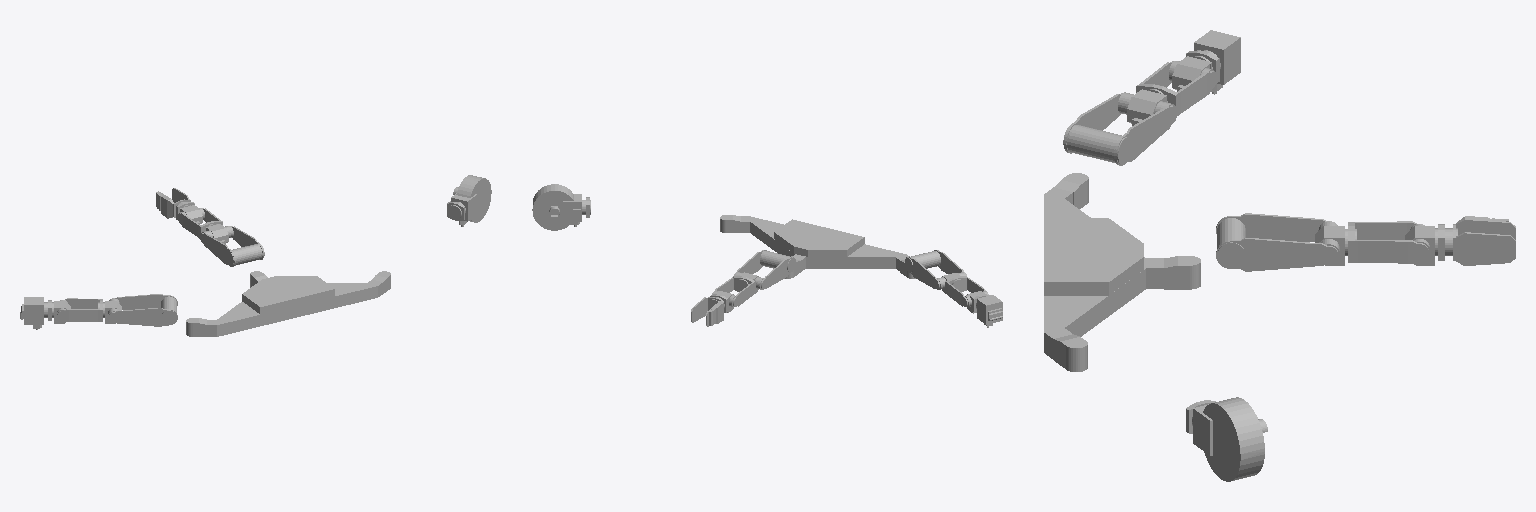
--- What the picture shows (computed from the rendered views, not written in the file) ---
The picture shows the robot from 3 angles, left to right: view 1: azimuth 30°, elevation 25°; view 2: azimuth 150°, elevation 25°; view 3: azimuth 270°, elevation 25°; orthographic projection.
Robot: TriATHLETE — 31 links, 30 joints (21 revolute, 3 continuous, 6 prismatic); root link Body; default pose: all joints at 0.
Visible links, largest first — view 1: Body, Thigh3, Thigh2, Shin3, Wheel1, Foot3, Foot1, Foot2, Shin2; view 2: Body, Wheel1, Thigh3, Thigh2, Foot2, Foot3, Shin2, Shin3, Foot1; view 3: Body, Thigh2, Thigh3, Wheel1, Foot2, Shin2, Foot3, Shin3, Knee3, Foot1, Ankle3, Knee2 (+1 smaller).
Link boxes in pixels (x1=…): Body: x1=186, y1=271, x2=390, y2=336; Thigh3: x1=109, y1=294, x2=177, y2=326; Thigh2: x1=200, y1=226, x2=264, y2=266; Shin3: x1=57, y1=298, x2=104, y2=321; Wheel1: x1=456, y1=175, x2=491, y2=222; Foot3: x1=20, y1=297, x2=53, y2=329; Foot1: x1=447, y1=193, x2=476, y2=226; Foot2: x1=156, y1=188, x2=194, y2=219; Shin2: x1=177, y1=208, x2=222, y2=238; Body: x1=720, y1=215, x2=915, y2=278; Wheel1: x1=532, y1=184, x2=573, y2=230; Thigh3: x1=905, y1=250, x2=966, y2=289; Thigh2: x1=733, y1=250, x2=795, y2=289; Foot2: x1=691, y1=294, x2=727, y2=326; Foot3: x1=973, y1=294, x2=1002, y2=327; Shin2: x1=712, y1=276, x2=755, y2=306; Shin3: x1=945, y1=276, x2=988, y2=306; Foot1: x1=559, y1=194, x2=590, y2=226; Body: x1=1044, y1=173, x2=1200, y2=371; Thigh2: x1=1216, y1=213, x2=1337, y2=271; Thigh3: x1=1063, y1=93, x2=1177, y2=165; Wheel1: x1=1203, y1=397, x2=1264, y2=481; Foot2: x1=1435, y1=216, x2=1515, y2=265; Shin2: x1=1345, y1=221, x2=1428, y2=263; Foot3: x1=1186, y1=30, x2=1240, y2=94; Shin3: x1=1136, y1=61, x2=1216, y2=115; Knee3: x1=1118, y1=89, x2=1174, y2=125; Foot1: x1=1186, y1=400, x2=1215, y2=455; Ankle3: x1=1169, y1=56, x2=1213, y2=91; Knee2: x1=1315, y1=221, x2=1344, y2=265.
Bounding box of the posed robot: 8.62 × 4.16 × 0.7672 m (x, y, z).
Meshes: 31 distinct files referenced, 17 mesh visuals loaded (17 binary STL); not drawn: 14 (reference not matched to a file when rendering).

robot.urdf — TriATHLETE:
<robot
  name="TriATHLETE">
  <link
    name="Body">
    <inertial>
      <origin
        xyz="0.000327609439793762 0.391383104075818 0.134839592784018"
        rpy="0 0 0" />
      <mass
        value="69.4650650198642" />
      <inertia
        ixx="9.54721652216011"
        ixy="-0.00600414850178364"
        ixz="-0.000962733954504053"
        iyy="61.2449611929671"
        iyz="-0.0261330879953629"
        izz="69.2158836561605" />
    </inertial>
    <visual>
      <origin
        xyz="0 0 0"
        rpy="0 0 0" />
      <geometry>
        <mesh
          filename="package://TriATHLETE/meshes/Body.STL" />
      </geometry>
      <material
        name="">
        <color
          rgba="0.752941176470588 0.752941176470588 0.752941176470588 1" />
      </material>
    </visual>
    <collision>
      <origin
        xyz="0 0 0"
        rpy="0 0 0" />
      <geometry>
        <mesh
          filename="package://TriATHLETE/meshes/Body.STL" />
      </geometry>
    </collision>
  </link>
  <link
    name="Hip1">
    <inertial>
      <origin
        xyz="0.12059 0.04703 -0.043975"
        rpy="0 0 0" />
      <mass
        value="10.161" />
      <inertia
        ixx="0.69317"
        ixy="0.0073762"
        ixz="0.040711"
        iyy="0.34376"
        iyz="0.0014897"
        izz="0.9152" />
    </inertial>
    <visual>
      <origin
        xyz="0 0 0"
        rpy="0 0 0" />
      <geometry>
        <mesh
          filename="package://TriATHLETE/meshes/Hip1.STL" />
      </geometry>
      <material
        name="">
        <color
          rgba="0.75294 0.75294 0.75294 1" />
      </material>
    </visual>
    <collision>
      <origin
        xyz="0 0 0"
        rpy="0 0 0" />
      <geometry>
        <mesh
          filename="package://TriATHLETE/meshes/Hip1.STL" />
      </geometry>
    </collision>
  </link>
  <joint
    name="HY1"
    type="revolute">
    <origin
      xyz="1.7322 0.28008 0.41034"
      rpy="-3.8514E-19 2.9959E-16 0.5236" />
    <parent
      link="Body" />
    <child
      link="Hip1" />
    <axis
      xyz="0 0 1" />
    <limit
      effort="0"
      velocity="0" />
  </joint>
  <link
    name="Thigh1">
    <inertial>
      <origin
        xyz="0.370518721162457 1.25669714079457E-08 -0.00166214955811306"
        rpy="0 0 0" />
      <mass
        value="14.2380918660623" />
      <inertia
        ixx="1.00077706992144"
        ixy="7.04416315080612E-08"
        ixz="0.00876869540631989"
        iyy="2.02531859855813"
        iyz="-0.000247267811920179"
        izz="1.32519556980037" />
    </inertial>
    <visual>
      <origin
        xyz="0 0 0"
        rpy="0 0 0" />
      <geometry>
        <mesh
          filename="package://TriATHLETE/meshes/Thigh1.STL" />
      </geometry>
      <material
        name="">
        <color
          rgba="0.752941176470588 0.752941176470588 0.752941176470588 1" />
      </material>
    </visual>
    <collision>
      <origin
        xyz="0 0 0"
        rpy="0 0 0" />
      <geometry>
        <mesh
          filename="package://TriATHLETE/meshes/Thigh1.STL" />
      </geometry>
    </collision>
  </link>
  <joint
    name="HP1"
    type="revolute">
    <origin
      xyz="0.36808 0 0"
      rpy="-1.5708 1.2746E-14 8.8818E-16" />
    <parent
      link="Hip1" />
    <child
      link="Thigh1" />
    <axis
      xyz="0 0 1" />
    <limit
      effort="0"
      velocity="0" />
  </joint>
  <link
    name="Knee1">
    <inertial>
      <origin
        xyz="0.0177620195302725 -0.0273853791262235 0.0067751780090779"
        rpy="0 0 0" />
      <mass
        value="5.79131093929399" />
      <inertia
        ixx="0.127678737350113"
        ixy="0.00421110509194029"
        ixz="-0.000694171659099811"
        iyy="0.121963981490439"
        iyz="0.00123336590046482"
        izz="0.0790875265038691" />
    </inertial>
    <visual>
      <origin
        xyz="0 0 0"
        rpy="0 0 0" />
      <geometry>
        <mesh
          filename="package://TriATHLETE/meshes/Knee1.STL" />
      </geometry>
      <material
        name="">
        <color
          rgba="0.752941176470588 0.752941176470588 0.752941176470588 1" />
      </material>
    </visual>
    <collision>
      <origin
        xyz="0 0 0"
        rpy="0 0 0" />
      <geometry>
        <mesh
          filename="package://TriATHLETE/meshes/Knee1.STL" />
      </geometry>
    </collision>
  </link>
  <joint
    name="KP1"
    type="revolute">
    <origin
      xyz="0.8627 0 0"
      rpy="9.4369E-16 5.2974E-16 1.5708" />
    <parent
      link="Thigh1" />
    <child
      link="Knee1" />
    <axis
      xyz="0 0 1" />
    <limit
      effort="0"
      velocity="0" />
  </joint>
  <link
    name="Shin1">
    <inertial>
      <origin
        xyz="-1.448208664101E-09 0.000117885236087689 0.409916599952478"
        rpy="0 0 0" />
      <mass
        value="10.2007216062381" />
      <inertia
        ixx="0.75023675922211"
        ixy="-0.00016423433074262"
        ixz="3.21124661853672E-09"
        iyy="0.536550636489524"
        iyz="-0.000276081361431576"
        izz="0.358448354265682" />
    </inertial>
    <visual>
      <origin
        xyz="0 0 0"
        rpy="0 0 0" />
      <geometry>
        <mesh
          filename="package://TriATHLETE/meshes/Shin1.STL" />
      </geometry>
      <material
        name="">
        <color
          rgba="0.752941176470588 0.752941176470588 0.752941176470588 1" />
      </material>
    </visual>
    <collision>
      <origin
        xyz="0 0 0"
        rpy="0 0 0" />
      <geometry>
        <mesh
          filename="package://TriATHLETE/meshes/Shin1.STL" />
      </geometry>
    </collision>
  </link>
  <joint
    name="KR1"
    type="revolute">
    <origin
      xyz="0 0 0"
      rpy="1.5708 2.8994E-16 8.7022E-15" />
    <parent
      link="Knee1" />
    <child
      link="Shin1" />
    <axis
      xyz="0 0 1" />
    <limit
      effort="0"
      velocity="0" />
  </joint>
  <link
    name="Ankle1">
    <inertial>
      <origin
        xyz="0.0201675324697146 -0.0260009755391852 0.00796861153355776"
        rpy="0 0 0" />
      <mass
        value="5.10804013112469" />
      <inertia
        ixx="0.0949307356752906"
        ixy="0.00405705056890619"
        ixz="-0.000818152000854828"
        iyy="0.0893568012722243"
        iyz="0.000898450855266035"
        izz="0.0730146348173989" />
    </inertial>
    <visual>
      <origin
        xyz="0 0 0"
        rpy="0 0 0" />
      <geometry>
        <mesh
          filename="package://TriATHLETE/meshes/Ankle1.STL" />
      </geometry>
      <material
        name="">
        <color
          rgba="0.752941176470588 0.752941176470588 0.752941176470588 1" />
      </material>
    </visual>
    <collision>
      <origin
        xyz="0 0 0"
        rpy="0 0 0" />
      <geometry>
        <mesh
          filename="package://TriATHLETE/meshes/Ankle1.STL" />
      </geometry>
    </collision>
  </link>
  <joint
    name="AP1"
    type="revolute">
    <origin
      xyz="0 0 0.79918"
      rpy="-1.5708 -1.5233E-15 6.2404E-16" />
    <parent
      link="Shin1" />
    <child
      link="Ankle1" />
    <axis
      xyz="0 0 1" />
    <limit
      effort="0"
      velocity="0" />
  </joint>
  <link
    name="Foot1">
    <inertial>
      <origin
        xyz="-0.000395529565993313 0.0686270198633157 0.467618358092724"
        rpy="0 0 0" />
      <mass
        value="24.0744417754878" />
      <inertia
        ixx="1.26676781262456"
        ixy="-0.00109123273941918"
        ixz="-0.00476618794105789"
        iyy="1.09949033555314"
        iyz="0.225494633008836"
        izz="0.477014907367227" />
    </inertial>
    <visual>
      <origin
        xyz="0 0 0"
        rpy="0 0 0" />
      <geometry>
        <mesh
          filename="package://TriATHLETE/meshes/Foot1.STL" />
      </geometry>
      <material
        name="">
        <color
          rgba="0.752941176470588 0.752941176470588 0.752941176470588 1" />
      </material>
    </visual>
    <collision>
      <origin
        xyz="0 0 0"
        rpy="0 0 0" />
      <geometry>
        <mesh
          filename="package://TriATHLETE/meshes/Foot1.STL" />
      </geometry>
    </collision>
  </link>
  <joint
    name="AR1"
    type="revolute">
    <origin
      xyz="0 0 0"
      rpy="1.5708 8.7494E-16 4.0405E-16" />
    <parent
      link="Ankle1" />
    <child
      link="Foot1" />
    <axis
      xyz="0 0 1" />
    <limit
      effort="0"
      velocity="0" />
  </joint>
  <link
    name="Wheel1">
    <inertial>
      <origin
        xyz="-2.7756E-15 0.0055231 -8.8818E-16"
        rpy="0 0 0" />
      <mass
        value="13.895" />
      <inertia
        ixx="0.62972"
        ixy="-2.7848E-16"
        ixz="8.3139E-16"
        iyy="1.0507"
        iyz="4.1633E-16"
        izz="0.62972" />
    </inertial>
    <visual>
      <origin
        xyz="0 0 0"
        rpy="0 0 0" />
      <geometry>
        <mesh
          filename="package://TriATHLETE/meshes/Wheel1.STL" />
      </geometry>
      <material
        name="">
        <color
          rgba="0.75294 0.75294 0.75294 1" />
      </material>
    </visual>
    <collision>
      <origin
        xyz="0 0 0"
        rpy="0 0 0" />
      <geometry>
        <mesh
          filename="package://TriATHLETE/meshes/Wheel1.STL" />
      </geometry>
    </collision>
  </link>
  <joint
    name="W1"
    type="continuous">
    <origin
      xyz="0 0 0.7317"
      rpy="8.8818E-16 1.1547E-15 5.1211E-16" />
    <parent
      link="Foot1" />
    <child
      link="Wheel1" />
    <axis
      xyz="0 1 0" />
  </joint>
  <link
    name="ToolCam1">
    <inertial>
      <origin
        xyz="1.11022302462516E-16 0.00360774822097887 0.0373541283717884"
        rpy="0 0 0" />
      <mass
        value="0.000588773978972159" />
      <inertia
        ixx="5.69425585041573E-07"
        ixy="-1.55941528399676E-22"
        ixz="9.21864247642688E-23"
        iyy="1.32825222660453E-06"
        iyz="-6.72803009718486E-09"
        izz="9.53046105803754E-07" />
    </inertial>
    <visual>
      <origin
        xyz="0 0 0"
        rpy="0 0 0" />
      <geometry>
        <mesh
          filename="package://TriATHLETE/meshes/ToolCam1.STL" />
      </geometry>
      <material
        name="">
        <color
          rgba="0.752941176470588 0.752941176470588 0.752941176470588 1" />
      </material>
    </visual>
    <collision>
      <origin
        xyz="0 0 0"
        rpy="0 0 0" />
      <geometry>
        <mesh
          filename="package://TriATHLETE/meshes/ToolCam1.STL" />
      </geometry>
    </collision>
  </link>
  <joint
    name="TCam1"
    type="revolute">
    <origin
      xyz="0 0.18573 0.42874"
      rpy="0.0076524 -1.0029E-14 1.8237E-15" />
    <parent
      link="Foot1" />
    <child
      link="ToolCam1" />
    <axis
      xyz="-1 0 0" />
    <limit
      effort="0"
      velocity="0" />
  </joint>
  <link
    name="ToolClamp1A">
    <inertial>
      <origin
        xyz="-0.00334192713810128 -3.5527136788005E-15 0.0541231020009825"
        rpy="0 0 0" />
      <mass
        value="0.000644765654639933" />
      <inertia
        ixx="2.54124463788302E-06"
        ixy="7.89307836040844E-21"
        ixz="-7.18572500118341E-08"
        iyy="1.35688729188269E-06"
        iyz="-9.53034276569107E-20"
        izz="1.66092018346267E-06" />
    </inertial>
    <visual>
      <origin
        xyz="0 0 0"
        rpy="0 0 0" />
      <geometry>
        <mesh
          filename="package://TriATHLETE/meshes/ToolClamp1A.STL" />
      </geometry>
      <material
        name="">
        <color
          rgba="0.752941176470588 0.752941176470588 0.752941176470588 1" />
      </material>
    </visual>
    <collision>
      <origin
        xyz="0 0 0"
        rpy="0 0 0" />
      <geometry>
        <mesh
          filename="package://TriATHLETE/meshes/ToolClamp1A.STL" />
      </geometry>
    </collision>
  </link>
  <joint
    name="TC1A"
    type="prismatic">
    <origin
      xyz="-0.082309 0.18256 0.7317"
      rpy="-1.5708 1.2706E-15 1.6924E-16" />
    <parent
      link="Foot1" />
    <child
      link="ToolClamp1A" />
    <axis
      xyz="1 0 0" />
    <limit
      effort="0"
      velocity="0" />
  </joint>
  <link
    name="ToolClamp1B">
    <inertial>
      <origin
        xyz="0.00334192713810122 4.44089209850063E-15 0.054123102000982"
        rpy="0 0 0" />
      <mass
        value="0.000644765654639932" />
      <inertia
        ixx="2.54124463788301E-06"
        ixy="7.81840038980488E-21"
        ixz="7.18572500118347E-08"
        iyy="1.35688729188268E-06"
        iyz="1.00240944696966E-19"
        izz="1.66092018346267E-06" />
    </inertial>
    <visual>
      <origin
        xyz="0 0 0"
        rpy="0 0 0" />
      <geometry>
        <mesh
          filename="package://TriATHLETE/meshes/ToolClamp1B.STL" />
      </geometry>
      <material
        name="">
        <color
          rgba="0.752941176470588 0.752941176470588 0.752941176470588 1" />
      </material>
    </visual>
    <collision>
      <origin
        xyz="0 0 0"
        rpy="0 0 0" />
      <geometry>
        <mesh
          filename="package://TriATHLETE/meshes/ToolClamp1B.STL" />
      </geometry>
    </collision>
  </link>
  <joint
    name="TC1B"
    type="prismatic">
    <origin
      xyz="0.082309 0.18256 0.7317"
      rpy="-1.5708 8.6258E-16 -8.8619E-16" />
    <parent
      link="Foot1" />
    <child
      link="ToolClamp1B" />
    <axis
      xyz="-1 0 0" />
    <limit
      effort="0"
      velocity="0" />
  </joint>
  <link
    name="Hip2">
    <inertial>
      <origin
        xyz="0.118411949013968 0.0507944356715986 -0.0439754343617754"
        rpy="0 0 0" />
      <mass
        value="10.1608945409747" />
      <inertia
        ixx="0.693174452918853"
        ixy="0.00737905565979648"
        ixz="0.040710852692817"
        iyy="0.343750377037655"
        iyz="0.00149080020104714"
        izz="0.915206294428903" />
    </inertial>
    <visual>
      <origin
        xyz="0 0 0"
        rpy="0 0 0" />
      <geometry>
        <mesh
          filename="package://TriATHLETE/meshes/Hip2.STL" />
      </geometry>
      <material
        name="">
        <color
          rgba="0.752941176470588 0.752941176470588 0.752941176470588 1" />
      </material>
    </visual>
    <collision>
      <origin
        xyz="0 0 0"
        rpy="0 0 0" />
      <geometry>
        <mesh
          filename="package://TriATHLETE/meshes/Hip2.STL" />
      </geometry>
    </collision>
  </link>
  <joint
    name="HY2"
    type="revolute">
    <origin
      xyz="0.0037717 1.2823 0.41034"
      rpy="1.4384E-16 3.8286E-16 1.5708" />
    <parent
      link="Body" />
    <child
      link="Hip2" />
    <axis
      xyz="0 0 1" />
    <limit
      effort="0"
      velocity="0" />
  </joint>
  <link
    name="Thigh2">
    <inertial>
      <origin
        xyz="0.368347901008244 1.25710947762592E-08 0.00209778330793262"
        rpy="0 0 0" />
      <mass
        value="14.238091696823" />
      <inertia
        ixx="1.00077713625184"
        ixy="7.07757836574466E-08"
        ixz="0.00880780769649467"
        iyy="2.02527369457016"
        iyz="-0.000247271033402293"
        izz="1.32515059559844" />
    </inertial>
    <visual>
      <origin
        xyz="0 0 0"
        rpy="0 0 0" />
      <geometry>
        <mesh
          filename="package://TriATHLETE/meshes/Thigh2.STL" />
      </geometry>
      <material
        name="">
        <color
          rgba="0.752941176470588 0.752941176470588 0.752941176470588 1" />
      </material>
    </visual>
    <collision>
      <origin
        xyz="0 0 0"
        rpy="0 0 0" />
      <geometry>
        <mesh
          filename="package://TriATHLETE/meshes/Thigh2.STL" />
      </geometry>
    </collision>
  </link>
  <joint
    name="HP2"
    type="revolute">
    <origin
      xyz="0.36808 0 0"
      rpy="-1.5708 1.2662E-14 9.8222E-16" />
    <parent
      link="Hip2" />
    <child
      link="Thigh2" />
    <axis
      xyz="0 0 1" />
    <limit
      effort="0"
      velocity="0" />
  </joint>
  <link
    name="Knee2">
    <inertial>
      <origin
        xyz="0.0177620294821922 -0.0252170745122218 0.0105307884749705"
        rpy="0 0 0" />
      <mass
        value="5.7913112572123" />
      <inertia
        ixx="0.127677928767089"
        ixy="0.00421057733369575"
        ixz="-0.000695092200053429"
        iyy="0.121965601634128"
        iyz="0.00123173747698273"
        izz="0.0790851156245568" />
    </inertial>
    <visual>
      <origin
        xyz="0 0 0"
        rpy="0 0 0" />
      <geometry>
        <mesh
          filename="package://TriATHLETE/meshes/Knee2.STL" />
      </geometry>
      <material
        name="">
        <color
          rgba="0.752941176470588 0.752941176470588 0.752941176470588 1" />
      </material>
    </visual>
    <collision>
      <origin
        xyz="0 0 0"
        rpy="0 0 0" />
      <geometry>
        <mesh
          filename="package://TriATHLETE/meshes/Knee2.STL" />
      </geometry>
    </collision>
  </link>
  <joint
    name="KP2"
    type="revolute">
    <origin
      xyz="0.8627 0 0"
      rpy="9.8222E-16 5.0951E-16 1.5708" />
    <parent
      link="Thigh2" />
    <child
      link="Knee2" />
    <axis
      xyz="0 0 1" />
    <limit
      effort="0"
      velocity="0" />
  </joint>
  <link
    name="Shin2">
    <inertial>
      <origin
        xyz="-1.3855E-09 0.0038831 0.40774"
        rpy="0 0 0" />
      <mass
        value="10.201" />
      <inertia
        ixx="0.75023"
        ixy="-0.00016423"
        ixz="3.1266E-09"
        iyy="0.53655"
        iyz="-0.00027239"
        izz="0.35845" />
    </inertial>
    <visual>
      <origin
        xyz="0 0 0"
        rpy="0 0 0" />
      <geometry>
        <mesh
          filename="package://TriATHLETE/meshes/Shin2.STL" />
      </geometry>
      <material
        name="">
        <color
          rgba="0.75294 0.75294 0.75294 1" />
      </material>
    </visual>
    <collision>
      <origin
        xyz="0 0 0"
        rpy="0 0 0" />
      <geometry>
        <mesh
          filename="package://TriATHLETE/meshes/Shin2.STL" />
      </geometry>
    </collision>
  </link>
  <joint
    name="KR2"
    type="revolute">
    <origin
      xyz="0 0 0"
      rpy="1.5708 2.8994E-16 8.7022E-15" />
    <parent
      link="Knee2" />
    <child
      link="Shin2" />
    <axis
      xyz="0 0 1" />
    <limit
      effort="0"
      velocity="0" />
  </joint>
  <link
    name="Ankle2">
    <inertial>
      <origin
        xyz="0.0201675440556965 -0.0238323973870855 0.0117246919164519"
        rpy="0 0 0" />
      <mass
        value="5.10804034832548" />
      <inertia
        ixx="0.0949304172171421"
        ixy="0.00405649595902508"
        ixz="-0.0008191181837898"
        iyy="0.0893583779040069"
        iyz="0.000897272839053966"
        izz="0.0730127567240132" />
    </inertial>
    <visual>
      <origin
        xyz="0 0 0"
        rpy="0 0 0" />
      <geometry>
        <mesh
          filename="package://TriATHLETE/meshes/Ankle2.STL" />
      </geometry>
      <material
        name="">
        <color
          rgba="0.752941176470588 0.752941176470588 0.752941176470588 1" />
      </material>
    </visual>
    <collision>
      <origin
        xyz="0 0 0"
        rpy="0 0 0" />
      <geometry>
        <mesh
          filename="package://TriATHLETE/meshes/Ankle2.STL" />
      </geometry>
    </collision>
  </link>
  <joint
    name="AP2"
    type="revolute">
    <origin
      xyz="0 0 0.79918"
      rpy="-1.5708 -1.4863E-15 5.9826E-16" />
    <parent
      link="Shin2" />
    <child
      link="Ankle2" />
    <axis
      xyz="0 0 1" />
    <limit
      effort="0"
      velocity="0" />
  </joint>
  <link
    name="Foot2">
    <inertial>
      <origin
        xyz="-0.000395647307608105 0.0723941640793132 0.465443283725747"
        rpy="0 0 0" />
      <mass
        value="24.0744612653196" />
      <inertia
        ixx="1.26676599593797"
        ixy="-0.00109142655970687"
        ixz="-0.00476669308116713"
        iyy="1.0994828302143"
        iyz="0.225499021719242"
        izz="0.477020997621116" />
    </inertial>
    <visual>
      <origin
        xyz="0 0 0"
        rpy="0 0 0" />
      <geometry>
        <mesh
          filename="package://TriATHLETE/meshes/Foot2.STL" />
      </geometry>
      <material
        name="">
        <color
          rgba="0.752941176470588 0.752941176470588 0.752941176470588 1" />
      </material>
    </visual>
    <collision>
      <origin
        xyz="0 0 0"
        rpy="0 0 0" />
      <geometry>
        <mesh
          filename="package://TriATHLETE/meshes/Foot2.STL" />
      </geometry>
    </collision>
  </link>
  <joint
    name="AR2"
    type="revolute">
    <origin
      xyz="0 0 0"
      rpy="1.5708 8.4916E-16 3.67E-16" />
    <parent
      link="Ankle2" />
    <child
      link="Foot2" />
    <axis
      xyz="0 0 1" />
    <limit
      effort="0"
      velocity="0" />
  </joint>
  <link
    name="Wheel2">
    <inertial>
      <origin
        xyz="-7.07212066686225E-14 0.00926527867750333 -0.00216056249617314"
        rpy="0 0 0" />
      <mass
        value="13.8946567004026" />
      <inertia
        ixx="0.629729170394299"
        ixy="3.05858387603867E-16"
        ixz="-9.22581640116652E-15"
        iyy="1.05072959842361"
        iyz="-2.19464571961658E-06"
        izz="0.629728658626731" />
    </inertial>
    <visual>
      <origin
        xyz="0 0 0"
        rpy="0 0 0" />
      <geometry>
        <mesh
          filename="package://TriATHLETE/meshes/Wheel2.STL" />
      </geometry>
      <material
        name="">
        <color
          rgba="0.752941176470588 0.752941176470588 0.752941176470588 1" />
      </material>
    </visual>
    <collision>
      <origin
        xyz="0 0 0"
        rpy="0 0 0" />
      <geometry>
        <mesh
          filename="package://TriATHLETE/meshes/Wheel2.STL" />
      </geometry>
    </collision>
  </link>
  <joint
    name="W2"
    type="continuous">
    <origin
      xyz="0 0 0.7317"
      rpy="9.4369E-16 1.1547E-15 5.1211E-16" />
    <parent
      link="Foot2" />
    <child
      link="Wheel2" />
    <axis
      xyz="0 1 0" />
  </joint>
  <link
    name="ToolCam2">
    <inertial>
      <origin
        xyz="5.55111512312578E-17 0.00360774822097865 0.0373541283717875"
        rpy="0 0 0" />
      <mass
        value="0.000588773978972157" />
      <inertia
        ixx="5.69425585041568E-07"
        ixy="-8.04432606816854E-23"
        ixz="2.94931877736694E-22"
        iyy="1.32825222660452E-06"
        iyz="-6.72803009718544E-09"
        izz="9.53046105803753E-07" />
    </inertial>
    <visual>
      <origin
        xyz="0 0 0"
        rpy="0 0 0" />
      <geometry>
        <mesh
          filename="package://TriATHLETE/meshes/ToolCam2.STL" />
      </geometry>
      <material
        name="">
        <color
          rgba="0.752941176470588 0.752941176470588 0.752941176470588 1" />
      </material>
    </visual>
    <collision>
      <origin
        xyz="0 0 0"
        rpy="0 0 0" />
      <geometry>
        <mesh
          filename="package://TriATHLETE/meshes/ToolCam2.STL" />
      </geometry>
    </collision>
  </link>
  <joint
    name="TCam2"
    type="revolute">
    <origin
      xyz="0 0.18573 0.42874"
      rpy="0.0076524 -1.0029E-14 1.8237E-15" />
    <parent
      link="Foot2" />
    <child
      link="ToolCam2" />
    <axis
      xyz="-1 0 0" />
    <limit
      effort="0"
      velocity="0" />
  </joint>
  <link
    name="ToolClamp2A">
    <inertial>
      <origin
        xyz="-0.00334192713810128 -4.44089209850063E-15 0.0541231020009818"
        rpy="0 0 0" />
      <mass
        value="0.000644765654639933" />
      <inertia
        ixx="2.54124463788301E-06"
        ixy="7.17336910304855E-21"
        ixz="-7.18572500118374E-08"
        iyy="1.35688729188268E-06"
        iyz="-9.00361221222559E-20"
        izz="1.66092018346267E-06" />
    </inertial>
    <visual>
      <origin
        xyz="0 0 0"
        rpy="0 0 0" />
      <geometry>
        <mesh
          filename="package://TriATHLETE/meshes/ToolClamp2A.STL" />
      </geometry>
      <material
        name="">
        <color
          rgba="0.752941176470588 0.752941176470588 0.752941176470588 1" />
      </material>
    </visual>
    <collision>
      <origin
        xyz="0 0 0"
        rpy="0 0 0" />
      <geometry>
        <mesh
          filename="package://TriATHLETE/meshes/ToolClamp2A.STL" />
      </geometry>
    </collision>
  </link>
  <joint
    name="TC2A"
    type="prismatic">
    <origin
      xyz="-0.082309 0.18256 0.7317"
      rpy="-1.5708 1.2706E-15 1.6924E-16" />
    <parent
      link="Foot2" />
    <child
      link="ToolClamp2A" />
    <axis
      xyz="1 0 0" />
    <limit
      effort="0"
      velocity="0" />
  </joint>
  <link
    name="ToolClamp2B">
    <inertial>
      <origin
        xyz="0.00334192713810128 4.44089209850063E-15 0.0541231020009818"
        rpy="0 0 0" />
      <mass
        value="0.000644765654639932" />
      <inertia
        ixx="2.54124463788302E-06"
        ixy="8.78030229123438E-21"
        ixz="7.18572500118374E-08"
        iyy="1.35688729188269E-06"
        iyz="1.02590632203405E-19"
        izz="1.66092018346266E-06" />
    </inertial>
    <visual>
      <origin
        xyz="0 0 0"
        rpy="0 0 0" />
      <geometry>
        <mesh
          filename="package://TriATHLETE/meshes/ToolClamp2B.STL" />
      </geometry>
      <material
        name="">
        <color
          rgba="0.752941176470588 0.752941176470588 0.752941176470588 1" />
      </material>
    </visual>
    <collision>
      <origin
        xyz="0 0 0"
        rpy="0 0 0" />
      <geometry>
        <mesh
          filename="package://TriATHLETE/meshes/ToolClamp2B.STL" />
      </geometry>
    </collision>
  </link>
  <joint
    name="TC2B"
    type="prismatic">
    <origin
      xyz="0.082309 0.18256 0.7317"
      rpy="-1.5708 8.6258E-16 -8.8619E-16" />
    <parent
      link="Foot2" />
    <child
      link="ToolClamp2B" />
    <axis
      xyz="-1 0 0" />
    <limit
      effort="0"
      velocity="0" />
  </joint>
  <link
    name="Hip3">
    <inertial>
      <origin
        xyz="0.120585577339721 0.0545590879027939 -0.0439752801645624"
        rpy="0 0 0" />
      <mass
        value="10.160880279866" />
      <inertia
        ixx="0.693181644231192"
        ixy="0.00738579516467797"
        ixz="0.04071119695434"
        iyy="0.34375536562839"
        iyz="0.00149168819276116"
        izz="0.915219117576723" />
    </inertial>
    <visual>
      <origin
        xyz="0 0 0"
        rpy="0 0 0" />
      <geometry>
        <mesh
          filename="package://TriATHLETE/meshes/Hip3.STL" />
      </geometry>
      <material
        name="">
        <color
          rgba="0.752941176470588 0.752941176470588 0.752941176470588 1" />
      </material>
    </visual>
    <collision>
      <origin
        xyz="0 0 0"
        rpy="0 0 0" />
      <geometry>
        <mesh
          filename="package://TriATHLETE/meshes/Hip3.STL" />
      </geometry>
    </collision>
  </link>
  <joint
    name="HY3"
    type="revolute">
    <origin
      xyz="-1.7284 0.28661 0.41034"
      rpy="2.8806E-16 2.4904E-16 2.618" />
    <parent
      link="Body" />
    <child
      link="Hip3" />
    <axis
      xyz="0 0 1" />
    <limit
      effort="0"
      velocity="0" />
  </joint>
  <link
    name="Thigh3">
    <inertial>
      <origin
        xyz="0.370518721161746 1.25752318003158E-08 0.00585771621415643"
        rpy="0 0 0" />
      <mass
        value="14.2380918660624" />
      <inertia
        ixx="1.00077846897415"
        ixy="7.03328275851991E-08"
        ixz="0.00884732490020404"
        iyy="2.02531999761082"
        iyz="-0.000247269157696109"
        izz="1.32519556980035" />
    </inertial>
    <visual>
      <origin
        xyz="0 0 0"
        rpy="0 0 0" />
      <geometry>
        <mesh
          filename="package://TriATHLETE/meshes/Thigh3.STL" />
      </geometry>
      <material
        name="">
        <color
          rgba="0.752941176470588 0.752941176470588 0.752941176470588 1" />
      </material>
    </visual>
    <collision>
      <origin
        xyz="0 0 0"
        rpy="0 0 0" />
      <geometry>
        <mesh
          filename="package://TriATHLETE/meshes/Thigh3.STL" />
      </geometry>
    </collision>
  </link>
  <joint
    name="HP3"
    type="revolute">
    <origin
      xyz="0.36808 0 0"
      rpy="-1.5708 1.2519E-14 1.1102E-15" />
    <parent
      link="Hip3" />
    <child
      link="Thigh3" />
    <axis
      xyz="0 0 1" />
    <limit
      effort="0"
      velocity="0" />
  </joint>
  <link
    name="Knee3">
    <inertial>
      <origin
        xyz="0.0177619698445473 -0.0273854178818249 0.0142863942547347"
        rpy="0 0 0" />
      <mass
        value="5.79130862644633" />
      <inertia
        ixx="0.127682645839937"
        ixy="0.00421107936371653"
        ixz="-0.000696015903420424"
        iyy="0.121967877232449"
        iyz="0.00122897106801728"
        izz="0.0790874639417925" />
    </inertial>
    <visual>
      <origin
        xyz="0 0 0"
        rpy="0 0 0" />
      <geometry>
        <mesh
          filename="package://TriATHLETE/meshes/Knee3.STL" />
      </geometry>
      <material
        name="">
        <color
          rgba="0.752941176470588 0.752941176470588 0.752941176470588 1" />
      </material>
    </visual>
    <collision>
      <origin
        xyz="0 0 0"
        rpy="0 0 0" />
      <geometry>
        <mesh
          filename="package://TriATHLETE/meshes/Knee3.STL" />
      </geometry>
    </collision>
  </link>
  <joint
    name="KP3"
    type="revolute">
    <origin
      xyz="0.8627 0 0"
      rpy="9.992E-16 5.9929E-16 1.5708" />
    <parent
      link="Thigh3" />
    <child
      link="Knee3" />
    <axis
      xyz="0 0 1" />
    <limit
      effort="0"
      velocity="0" />
  </joint>
  <link
    name="Shin3">
    <inertial>
      <origin
        xyz="-1.45407669238651E-09 0.00764840086375052 0.409916599951893"
        rpy="0 0 0" />
      <mass
        value="10.2007216062381" />
      <inertia
        ixx="0.750237785063541"
        ixy="-0.000164234330929026"
        ixz="3.20783300703527E-09"
        iyy="0.536550636489478"
        iyz="-0.000268404838400613"
        izz="0.358449380107159" />
    </inertial>
    <visual>
      <origin
        xyz="0 0 0"
        rpy="0 0 0" />
      <geometry>
        <mesh
          filename="package://TriATHLETE/meshes/Shin3.STL" />
      </geometry>
      <material
        name="">
        <color
          rgba="0.752941176470588 0.752941176470588 0.752941176470588 1" />
      </material>
    </visual>
    <collision>
      <origin
        xyz="0 0 0"
        rpy="0 0 0" />
      <geometry>
        <mesh
          filename="package://TriATHLETE/meshes/Shin3.STL" />
      </geometry>
    </collision>
  </link>
  <joint
    name="KR3"
    type="revolute">
    <origin
      xyz="0 0 0"
      rpy="1.5708 1.3323E-16 8.707E-15" />
    <parent
      link="Knee3" />
    <child
      link="Shin3" />
    <axis
      xyz="0 0 1" />
    <limit
      effort="0"
      velocity="0" />
  </joint>
  <link
    name="Ankle3">
    <inertial>
      <origin
        xyz="0.0201674806660618 -0.0260010173087775 0.0154807675861799"
        rpy="0 0 0" />
      <mass
        value="5.10803793336518" />
      <inertia
        ixx="0.0949344620653939"
        ixy="0.00405702699591925"
        ixz="-0.000820087560031446"
        iyy="0.0893605175852235"
        iyz="0.000895010282317742"
        izz="0.0730145771727957" />
    </inertial>
    <visual>
      <origin
        xyz="0 0 0"
        rpy="0 0 0" />
      <geometry>
        <mesh
          filename="package://TriATHLETE/meshes/Ankle3.STL" />
      </geometry>
      <material
        name="">
        <color
          rgba="0.752941176470588 0.752941176470588 0.752941176470588 1" />
      </material>
    </visual>
    <collision>
      <origin
        xyz="0 0 0"
        rpy="0 0 0" />
      <geometry>
        <mesh
          filename="package://TriATHLETE/meshes/Ankle3.STL" />
      </geometry>
    </collision>
  </link>
  <joint
    name="AP3"
    type="revolute">
    <origin
      xyz="0 0 0.79918"
      rpy="-1.5708 -1.4845E-15 4.5286E-16" />
    <parent
      link="Shin3" />
    <child
      link="Ankle3" />
    <axis
      xyz="0 0 1" />
    <limit
      effort="0"
      velocity="0" />
  </joint>
  <link
    name="Foot3">
    <inertial>
      <origin
        xyz="-0.00039541 0.076161 0.46762"
        rpy="0 0 0" />
      <mass
        value="24.074" />
      <inertia
        ixx="1.2668"
        ixy="-0.001091"
        ixz="-0.0047657"
        iyy="1.0995"
        iyz="0.22551"
        izz="0.47703" />
    </inertial>
    <visual>
      <origin
        xyz="0 0 0"
        rpy="0 0 0" />
      <geometry>
        <mesh
          filename="package://TriATHLETE/meshes/Foot3.STL" />
      </geometry>
      <material
        name="">
        <color
          rgba="0.75294 0.75294 0.75294 1" />
      </material>
    </visual>
    <collision>
      <origin
        xyz="0 0 0"
        rpy="0 0 0" />
      <geometry>
        <mesh
          filename="package://TriATHLETE/meshes/Foot3.STL" />
      </geometry>
    </collision>
  </link>
  <joint
    name="AR3"
    type="revolute">
    <origin
      xyz="0 0 0"
      rpy="1.5708 8.6525E-16 3.8405E-16" />
    <parent
      link="Ankle3" />
    <child
      link="Foot3" />
    <axis
      xyz="0 0 1" />
    <limit
      effort="0"
      velocity="0" />
  </joint>
  <link
    name="Wheel3">
    <inertial>
      <origin
        xyz="-8.05466804365551E-14 0.0130074826332831 -7.90478793533111E-13"
        rpy="0 0 0" />
      <mass
        value="13.8946567004024" />
      <inertia
        ixx="0.629737796405058"
        ixy="-2.25289371115895E-15"
        ixz="9.20634604281422E-15"
        iyy="1.05072908665601"
        iyz="-6.66133814775094E-15"
        izz="0.629737796405072" />
    </inertial>
    <visual>
      <origin
        xyz="0 0 0"
        rpy="0 0 0" />
      <geometry>
        <mesh
          filename="package://TriATHLETE/meshes/Wheel3.STL" />
      </geometry>
      <material
        name="">
        <color
          rgba="0.752941176470588 0.752941176470588 0.752941176470588 1" />
      </material>
    </visual>
    <collision>
      <origin
        xyz="0 0 0"
        rpy="0 0 0" />
      <geometry>
        <mesh
          filename="package://TriATHLETE/meshes/Wheel3.STL" />
      </geometry>
    </collision>
  </link>
  <joint
    name="W3"
    type="continuous">
    <origin
      xyz="0 0 0.7317"
      rpy="7.7716E-16 1.2469E-15 4.2715E-16" />
    <parent
      link="Foot3" />
    <child
      link="Wheel3" />
    <axis
      xyz="0 1 0" />
  </joint>
  <link
    name="ToolCam3">
    <inertial>
      <origin
        xyz="0 0.0036077482209782 0.0373541283717884"
        rpy="0 0 0" />
      <mass
        value="0.000588773978972161" />
      <inertia
        ixx="5.69425585041577E-07"
        ixy="-2.27817879763829E-22"
        ixz="-1.55407121989325E-21"
        iyy="1.32825222660453E-06"
        iyz="-6.72803009718627E-09"
        izz="9.53046105803758E-07" />
    </inertial>
    <visual>
      <origin
        xyz="0 0 0"
        rpy="0 0 0" />
      <geometry>
        <mesh
          filename="package://TriATHLETE/meshes/ToolCam3.STL" />
      </geometry>
      <material
        name="">
        <color
          rgba="0.752941176470588 0.752941176470588 0.752941176470588 1" />
      </material>
    </visual>
    <collision>
      <origin
        xyz="0 0 0"
        rpy="0 0 0" />
      <geometry>
        <mesh
          filename="package://TriATHLETE/meshes/ToolCam3.STL" />
      </geometry>
    </collision>
  </link>
  <joint
    name="TCam3"
    type="revolute">
    <origin
      xyz="0 0.18573 0.42874"
      rpy="0.0076524 -1.0053E-14 1.8285E-15" />
    <parent
      link="Foot3" />
    <child
      link="ToolCam3" />
    <axis
      xyz="-1 0 0" />
    <limit
      effort="0"
      velocity="0" />
  </joint>
  <link
    name="ToolClamp3A">
    <inertial>
      <origin
        xyz="-0.00334192713810128 -4.44089209850063E-15 0.0541231020009811"
        rpy="0 0 0" />
      <mass
        value="0.000644765654639931" />
      <inertia
        ixx="2.54124463788302E-06"
        ixy="9.84191588358336E-21"
        ixz="-7.18572500118362E-08"
        iyy="1.35688729188269E-06"
        iyz="-9.48269716240802E-20"
        izz="1.66092018346266E-06" />
    </inertial>
    <visual>
      <origin
        xyz="0 0 0"
        rpy="0 0 0" />
      <geometry>
        <mesh
          filename="package://TriATHLETE/meshes/ToolClamp3A.STL" />
      </geometry>
      <material
        name="">
        <color
          rgba="0.752941176470588 0.752941176470588 0.752941176470588 1" />
      </material>
    </visual>
    <collision>
      <origin
        xyz="0 0 0"
        rpy="0 0 0" />
      <geometry>
        <mesh
          filename="package://TriATHLETE/meshes/ToolClamp3A.STL" />
      </geometry>
    </collision>
  </link>
  <joint
    name="TC3A"
    type="prismatic">
    <origin
      xyz="-0.082309 0.18256 0.7317"
      rpy="-1.5708 1.2469E-15 1.7401E-16" />
    <parent
      link="Foot3" />
    <child
      link="ToolClamp3A" />
    <axis
      xyz="1 0 0" />
    <limit
      effort="0"
      velocity="0" />
  </joint>
  <link
    name="ToolClamp3B">
    <inertial>
      <origin
        xyz="0.0033419 3.5527E-15 0.054123"
        rpy="0 0 0" />
      <mass
        value="0.00064477" />
      <inertia
        ixx="2.5412E-06"
        ixy="8.5356E-21"
        ixz="7.1857E-08"
        iyy="1.3569E-06"
        iyz="9.7536E-20"
        izz="1.6609E-06" />
    </inertial>
    <visual>
      <origin
        xyz="0 0 0"
        rpy="0 0 0" />
      <geometry>
        <mesh
          filename="package://TriATHLETE/meshes/ToolClamp3B.STL" />
      </geometry>
      <material
        name="">
        <color
          rgba="0.75294 0.75294 0.75294 1" />
      </material>
    </visual>
    <collision>
      <origin
        xyz="0 0 0"
        rpy="0 0 0" />
      <geometry>
        <mesh
          filename="package://TriATHLETE/meshes/ToolClamp3B.STL" />
      </geometry>
    </collision>
  </link>
  <joint
    name="TC3B"
    type="prismatic">
    <origin
      xyz="0.082309 0.18256 0.7317"
      rpy="-1.5708 8.3895E-16 -8.8142E-16" />
    <parent
      link="Foot3" />
    <child
      link="ToolClamp3B" />
    <axis
      xyz="-1 0 0" />
    <limit
      effort="0"
      velocity="0" />
  </joint>
</robot>
